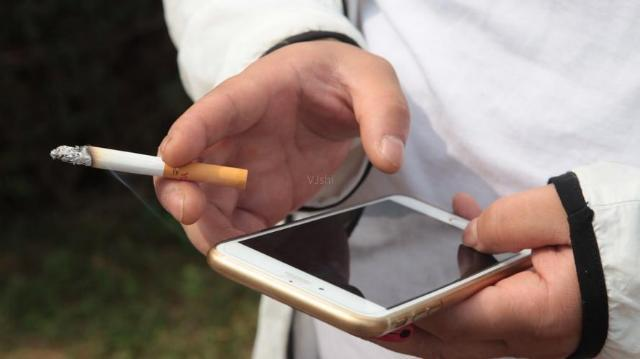Smoking: (51, 146, 249, 190)
